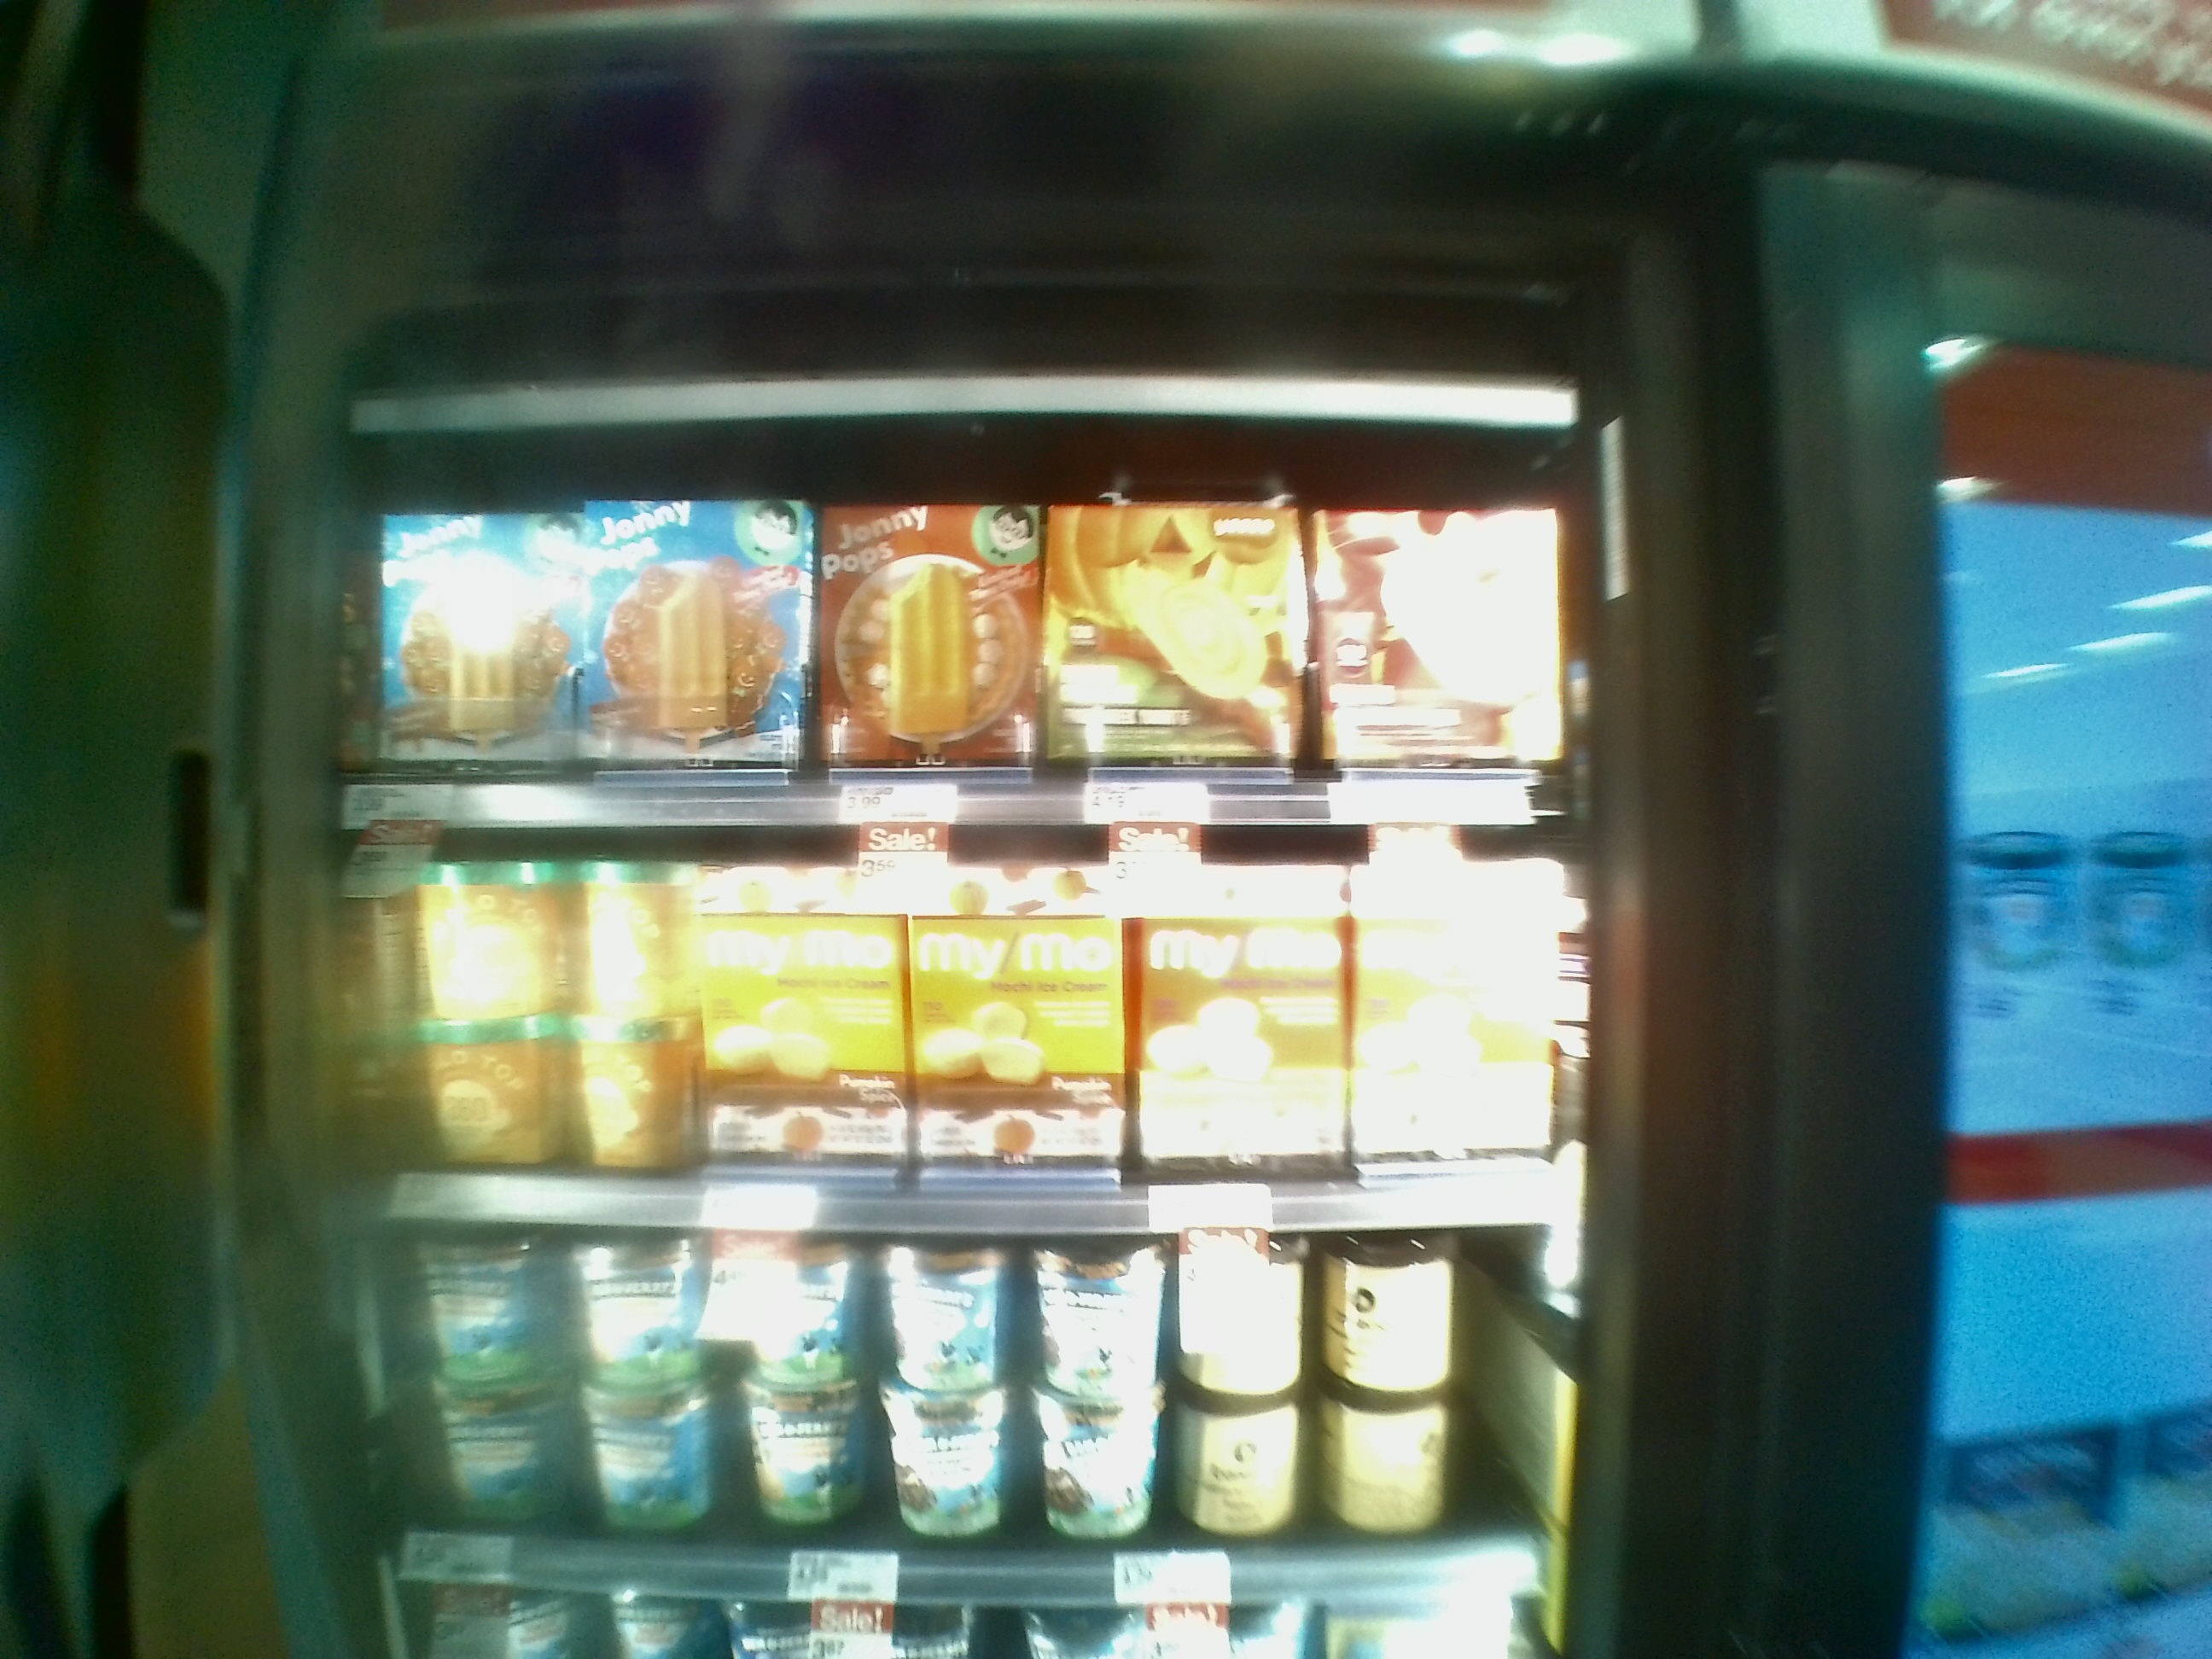shelf: (329, 775, 1578, 1215), (355, 432, 1587, 821), (366, 1190, 1566, 1577)
